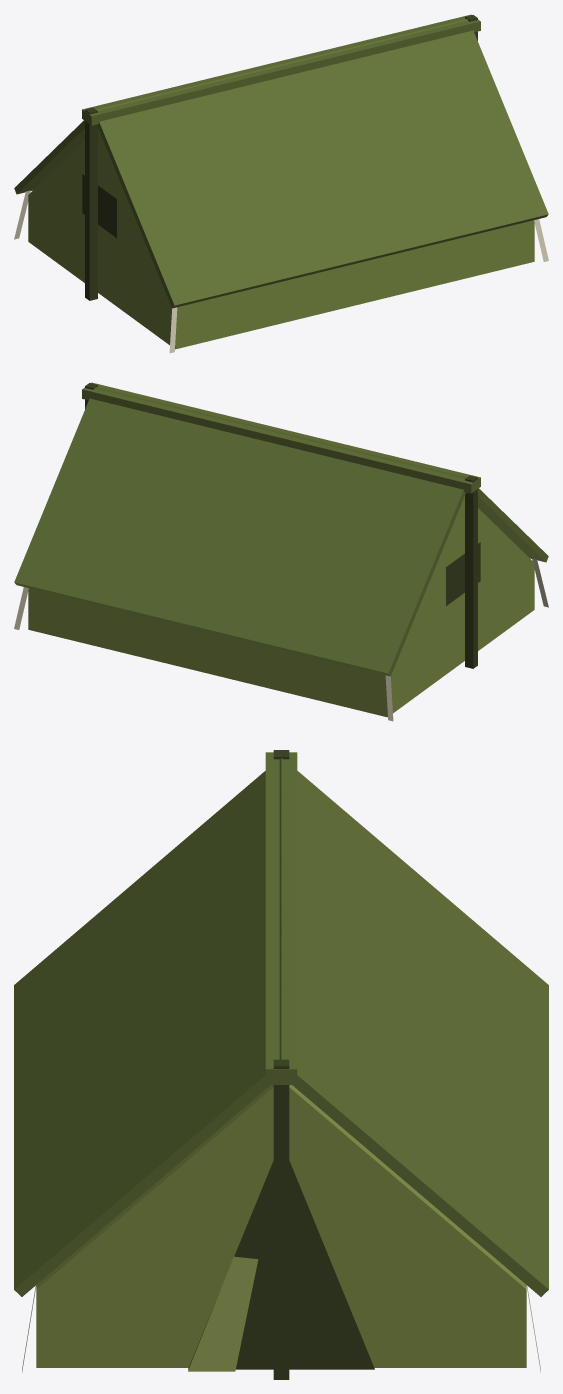
The model's file is tent.glb.
3 views of the same model, one above another, from view 1: azimuth 30°, elevation 25°; view 2: azimuth 150°, elevation 25°; view 3: azimuth 270°, elevation 25° (orthographic). The views are drawn at different scales.
Visible parts, largest first — view 1: tent; view 2: tent; view 3: tent.
Part boxes in pixels (<box>): tent: <box>14,14,548,353</box>; tent: <box>14,382,548,721</box>; tent: <box>14,750,548,1379</box>.
Bounding box in the file's own units: 0.52 × 0.24 × 0.3712.
